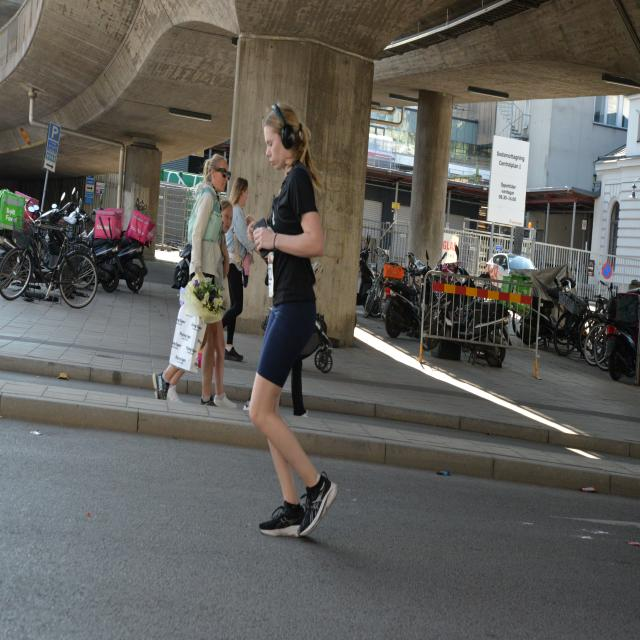runner-detect: (234, 80, 340, 550)
